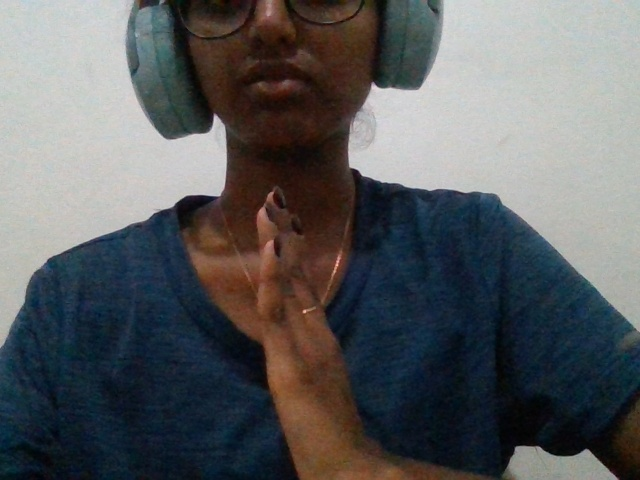Fine: (199, 160, 411, 480)
